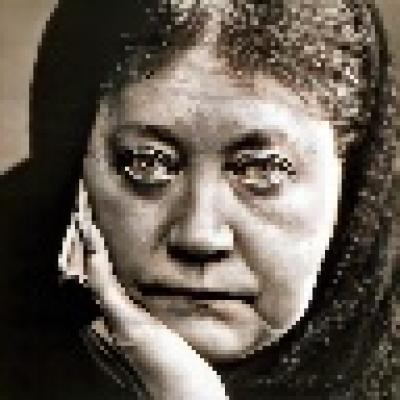sad: (92, 60, 330, 342)
